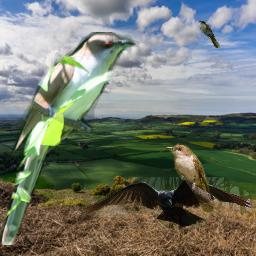Crow: (81, 177, 252, 236)
Cuckoo: (0, 32, 139, 245), (165, 143, 214, 214), (198, 20, 220, 48)
